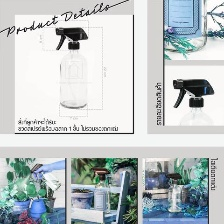bottle: (163, 0, 210, 56), (54, 42, 92, 111), (176, 97, 215, 126), (91, 176, 111, 217), (164, 179, 185, 216), (35, 168, 63, 193)
